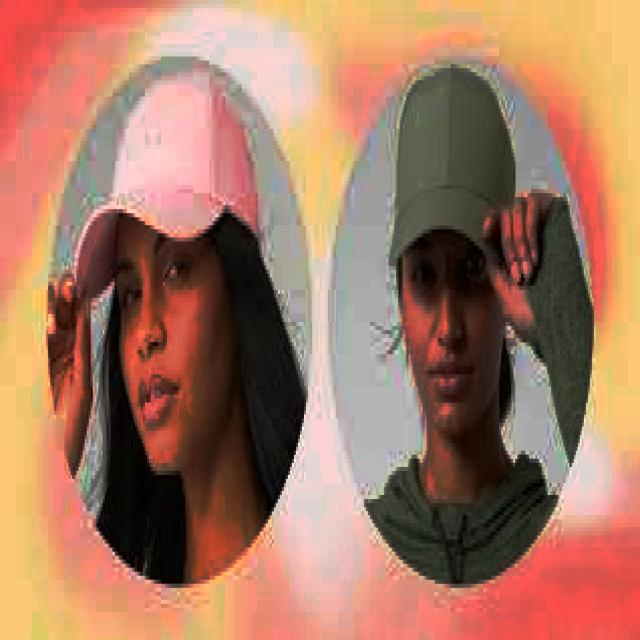TOPI: (66, 64, 258, 302), (384, 56, 518, 294)
